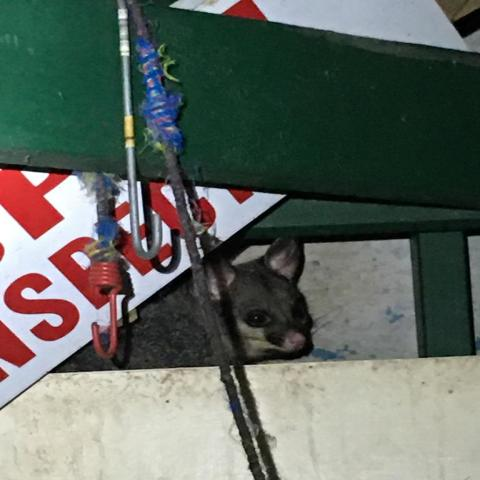small_animal: (48, 234, 318, 374)
